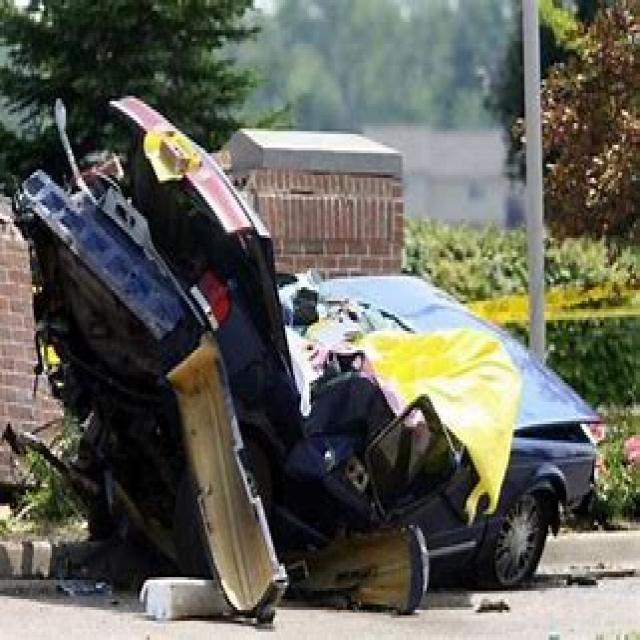Accident: (28, 110, 620, 631)
